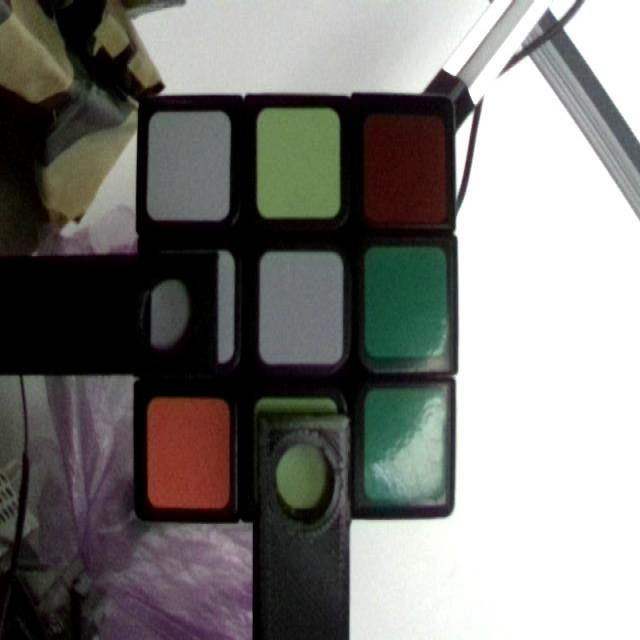b: (367, 245, 449, 357), (365, 393, 447, 503)
o: (147, 399, 228, 507)
r: (367, 118, 446, 220)
w: (260, 254, 344, 365), (150, 257, 235, 363), (149, 115, 229, 218)
y: (256, 110, 339, 219), (260, 399, 336, 509)
